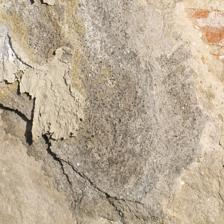Crack: (0, 19, 59, 128), (0, 59, 77, 141)
